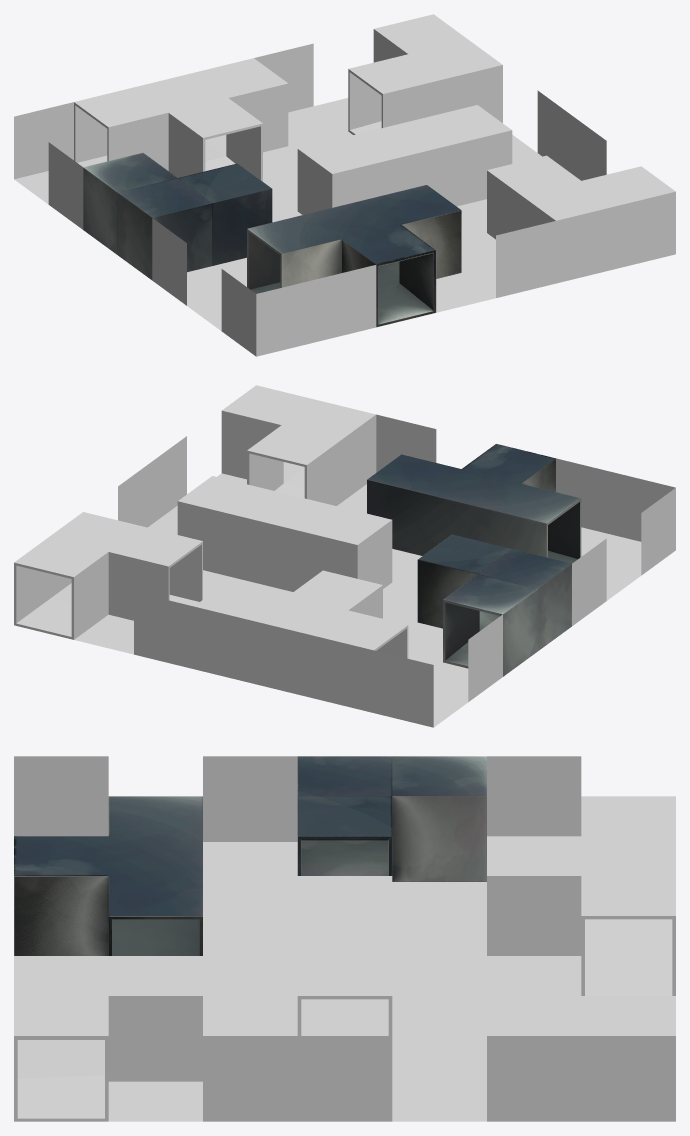
Rendered from Level2_Wände und Böden.fbx.
3 views of the same model, one above another, from view 1: azimuth 30°, elevation 25°; view 2: azimuth 150°, elevation 25°; view 3: azimuth 270°, elevation 25° (orthographic). The views are drawn at different scales.
Visible parts, largest first — view 1: Plane.003, Cube.003, Cube.001, Cube.002, Cube.004, Cube.005, Cube, Plane; view 2: Plane.003, Cube.001, Cube.003, Cube.005, Cube, Cube.004, Cube.002, Plane; view 3: Plane, Plane.003, Cube.001, Cube, Cube.002, Cube.003, Cube.004, Cube.005.
Part boxes in pixels (left/top/right/bottom): Plane.003: left=14, top=43, right=606, bottom=356; Cube.003: left=247, top=185, right=461, bottom=327; Cube.001: left=74, top=58, right=288, bottom=181; Cube.002: left=487, top=155, right=675, bottom=283; Cube.004: left=83, top=153, right=272, bottom=280; Cube.005: left=297, top=105, right=512, bottom=214; Cube: left=348, top=14, right=502, bottom=134; Plane: left=14, top=98, right=541, bottom=330; Plane.003: left=118, top=414, right=675, bottom=727; Cube.001: left=194, top=570, right=408, bottom=712; Cube.003: left=367, top=444, right=581, bottom=563; Cube.005: left=177, top=476, right=392, bottom=591; Cube: left=14, top=512, right=202, bottom=639; Cube.004: left=417, top=534, right=571, bottom=676; Cube.002: left=221, top=385, right=376, bottom=505; Plane: left=74, top=473, right=641, bottom=727; Plane: left=108, top=842, right=486, bottom=1121; Plane.003: left=14, top=756, right=581, bottom=1121; Cube.001: left=487, top=796, right=675, bottom=995; Cube: left=487, top=956, right=675, bottom=1121; Cube.002: left=14, top=956, right=202, bottom=1121; Cube.003: left=14, top=796, right=202, bottom=955; Cube.004: left=297, top=756, right=486, bottom=881; Cube.005: left=297, top=876, right=392, bottom=1035.
Size of the model in its own units: 1400 by 200 by 1400.
